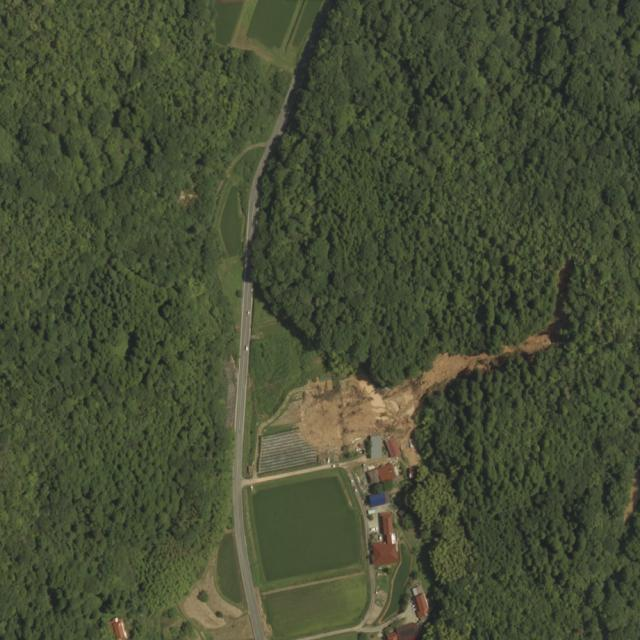landslide: (300, 353, 500, 448), (504, 331, 554, 355)
